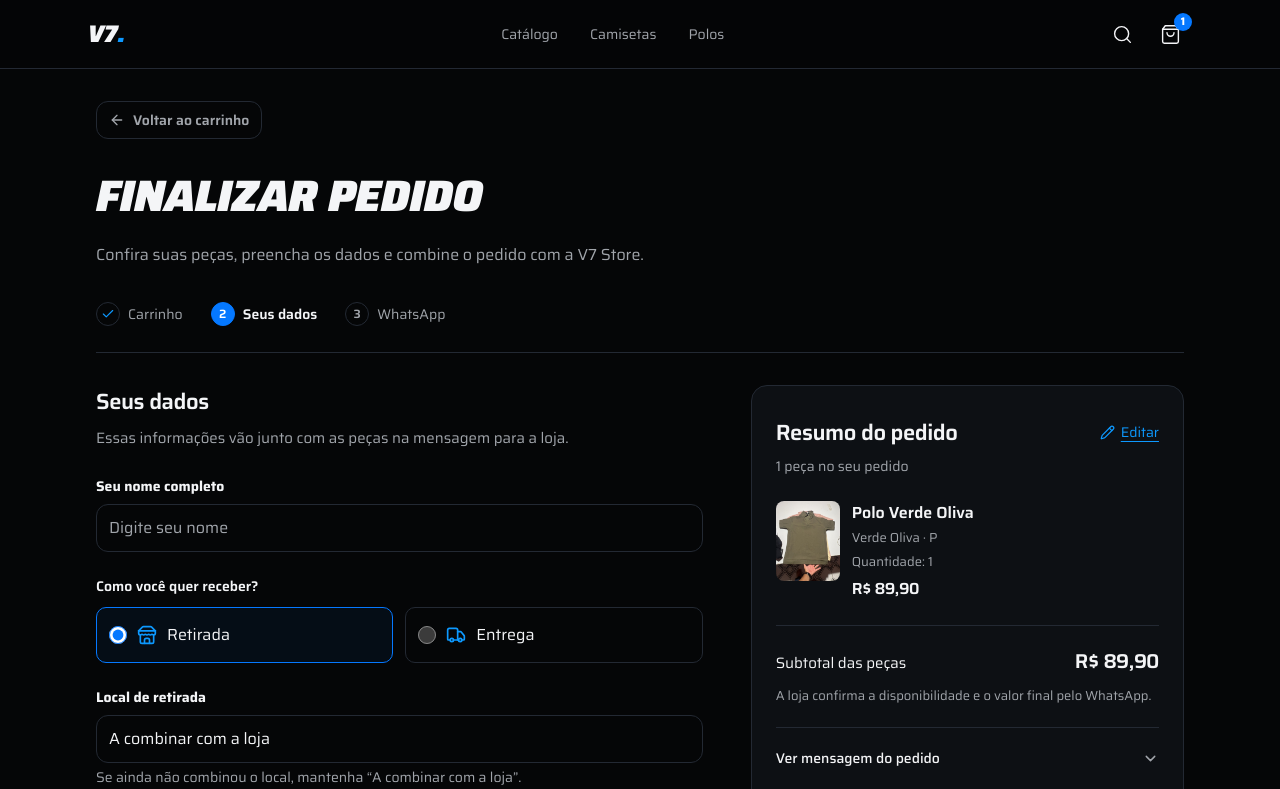
Test: jornada de compra › valida o endereço e inclui apenas os dados de entrega quando essa modalidade está habilitada
This screenshot has width=1280, height=789.
Later steps or results of the test are not shown.
Type "Cliente Teste" into the field labelled "Seu nome completo" at (399, 528), box [96, 504, 703, 552]
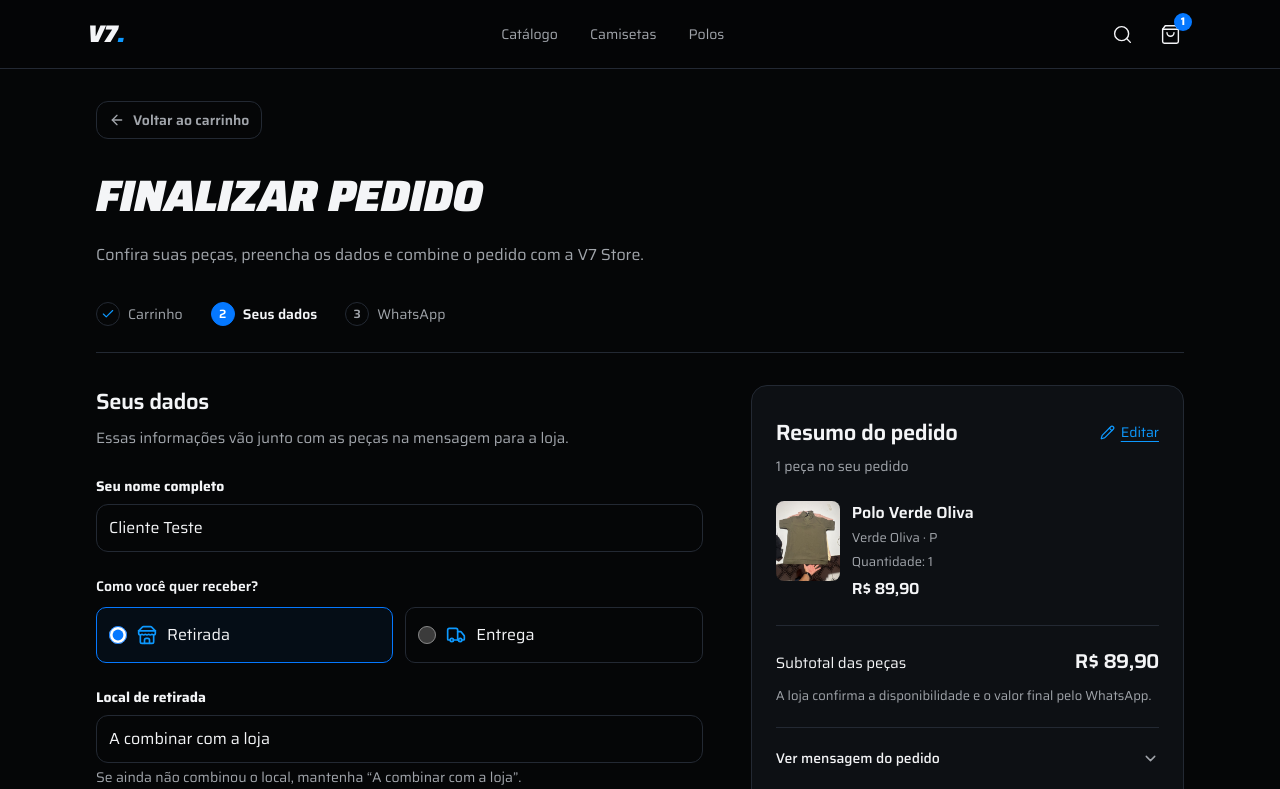
Click the radio button labelled "Entrega" at (427, 635), box [418, 626, 436, 644]
(page scrolled)
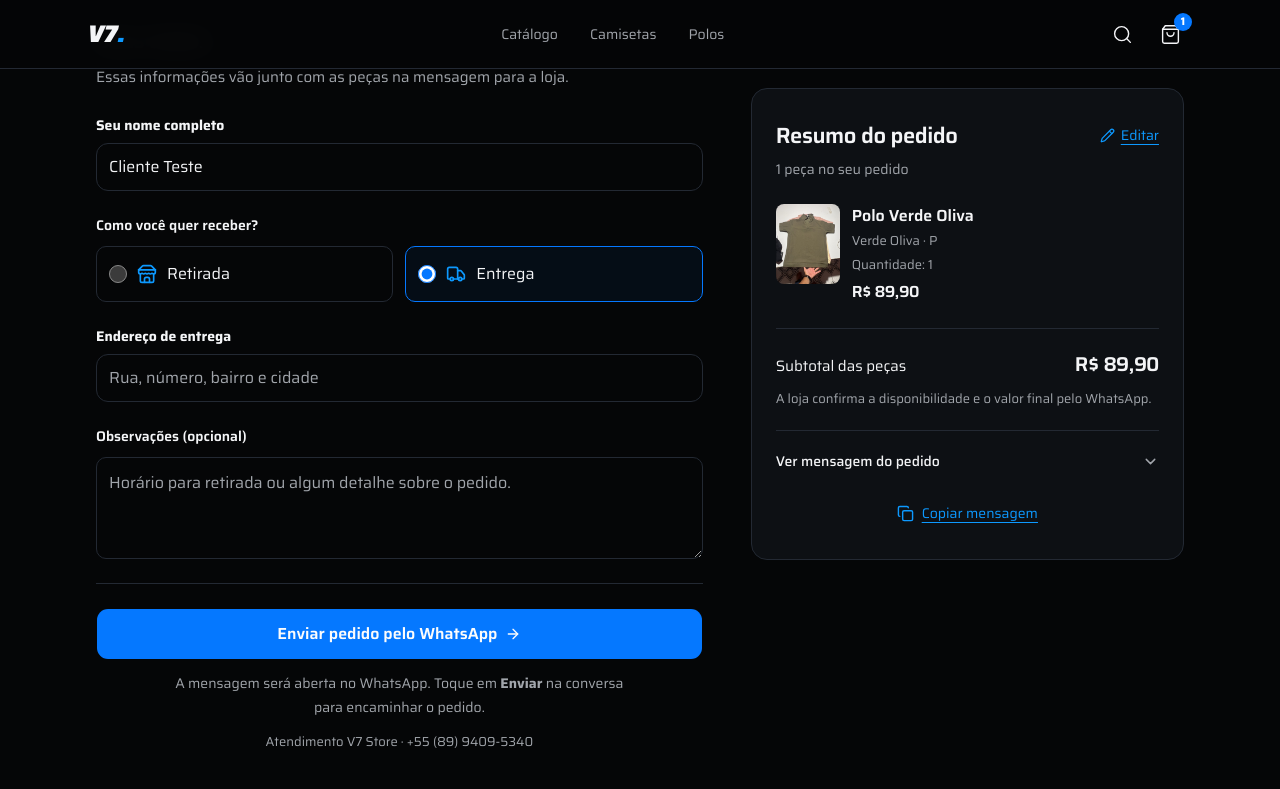
Now the label labelled "Local de retirada" is gone
Click the button "Enviar pedido pelo WhatsApp" at (399, 634), box [96, 608, 703, 660]
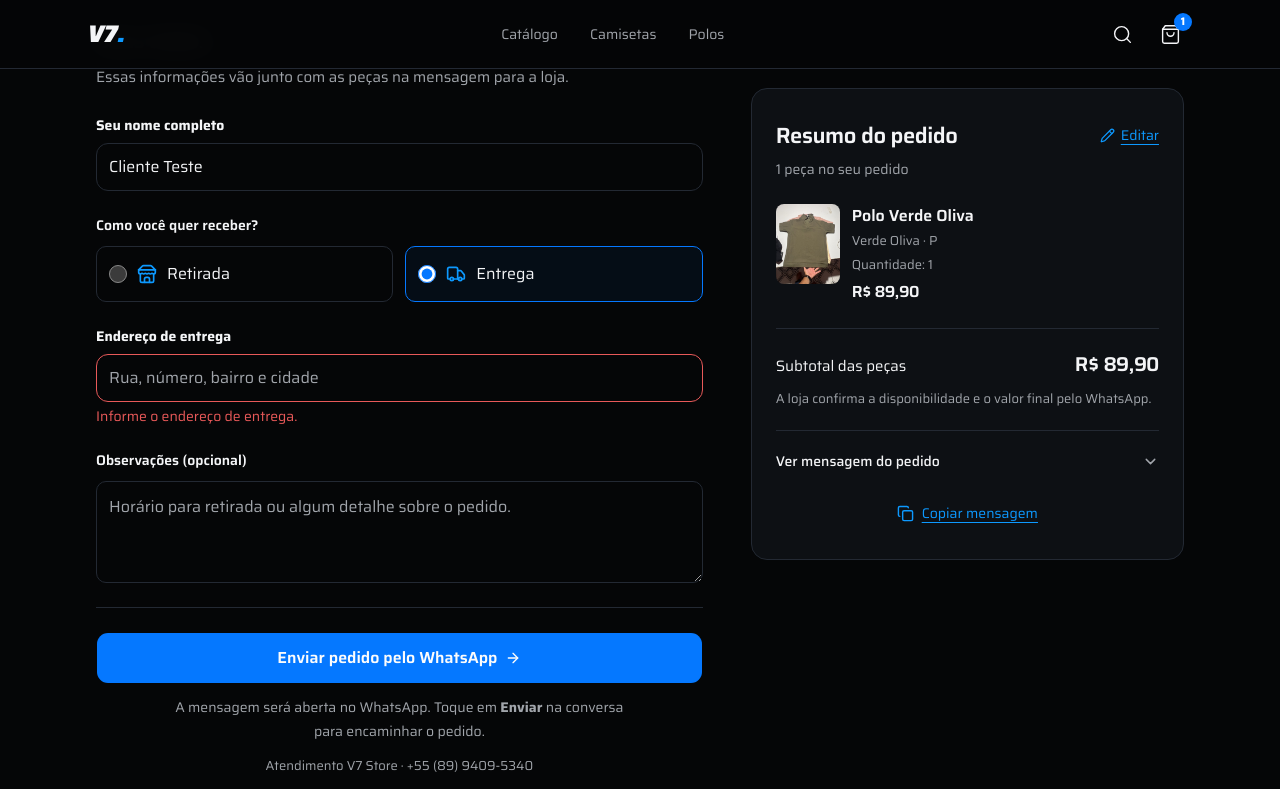
Now the text "Informe o endereço de entrega." is shown, box [96, 405, 297, 427]
